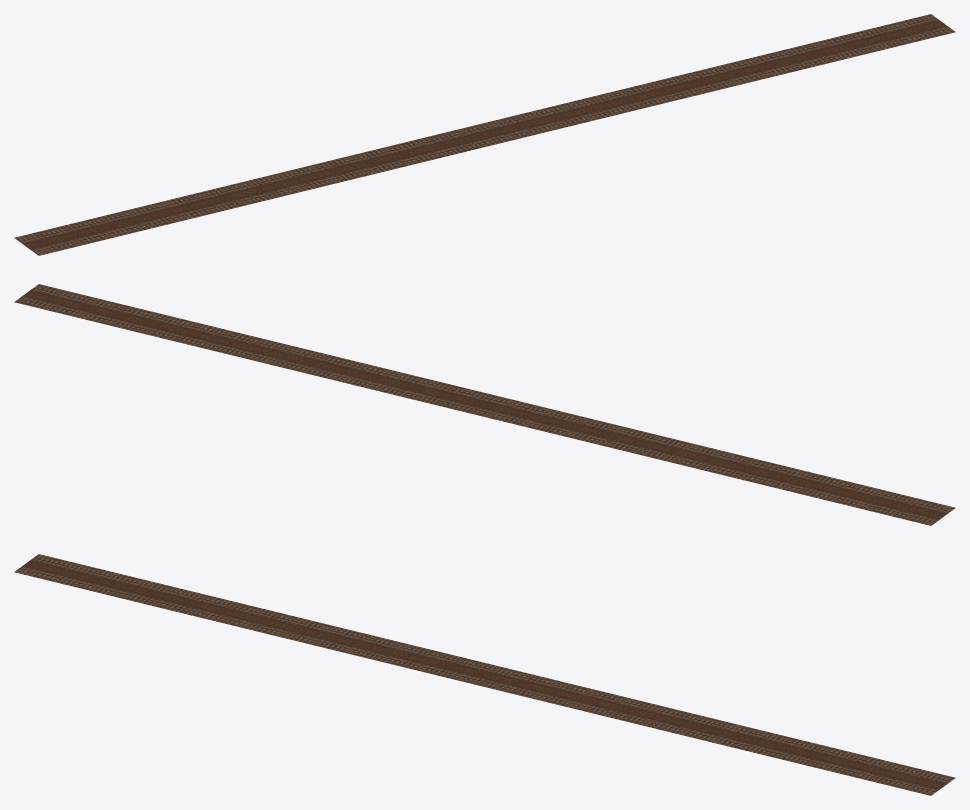
File: S0_Tail.FBX
The picture shows the model from 3 angles, top to bottom: view 1: azimuth 30°, elevation 25°; view 2: azimuth 150°, elevation 25°; view 3: azimuth 330°, elevation 25°; orthographic projection.
Visible parts, largest first — view 1: C0_Tail; view 2: C0_Tail; view 3: C0_Tail.
Boxes of the visible parts, bbox=[...] form: C0_Tail: bbox=[14, 14, 955, 255]; C0_Tail: bbox=[14, 284, 955, 525]; C0_Tail: bbox=[14, 554, 955, 795].
Bounding box in the file's own units: 80000 × 3750 × 0.
